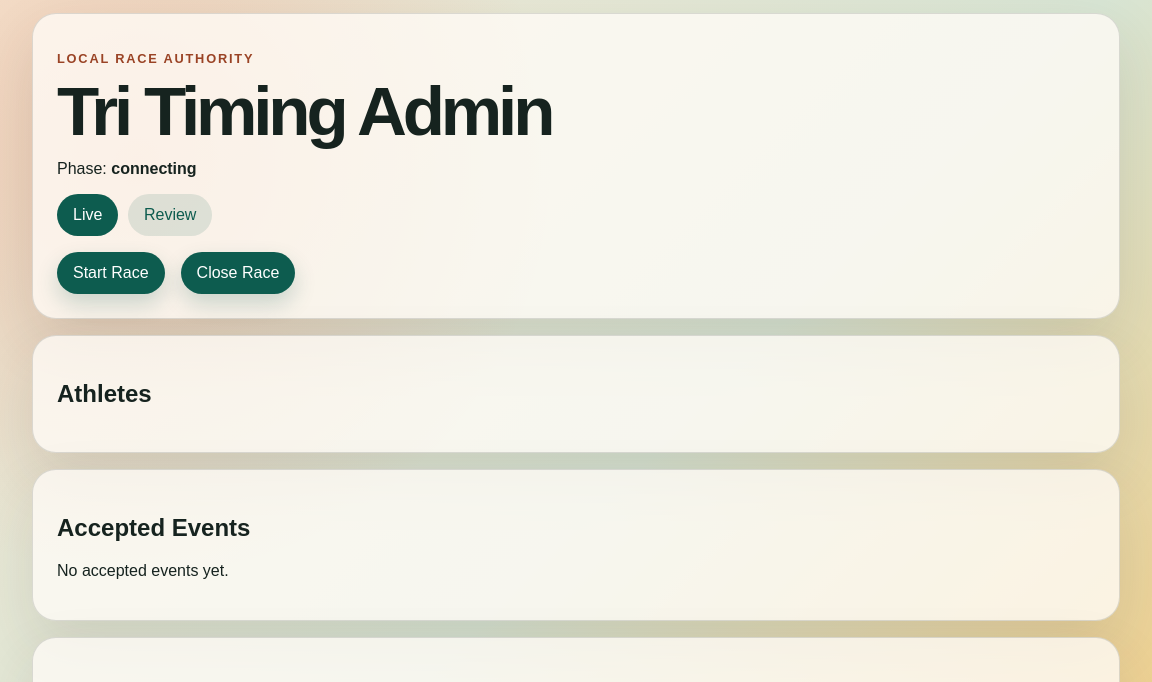
Test case: review mode renders athlete timeline and correction actions
Click the tab "Review" at (170, 215), box [128,194,212,236]
(page scrolled)
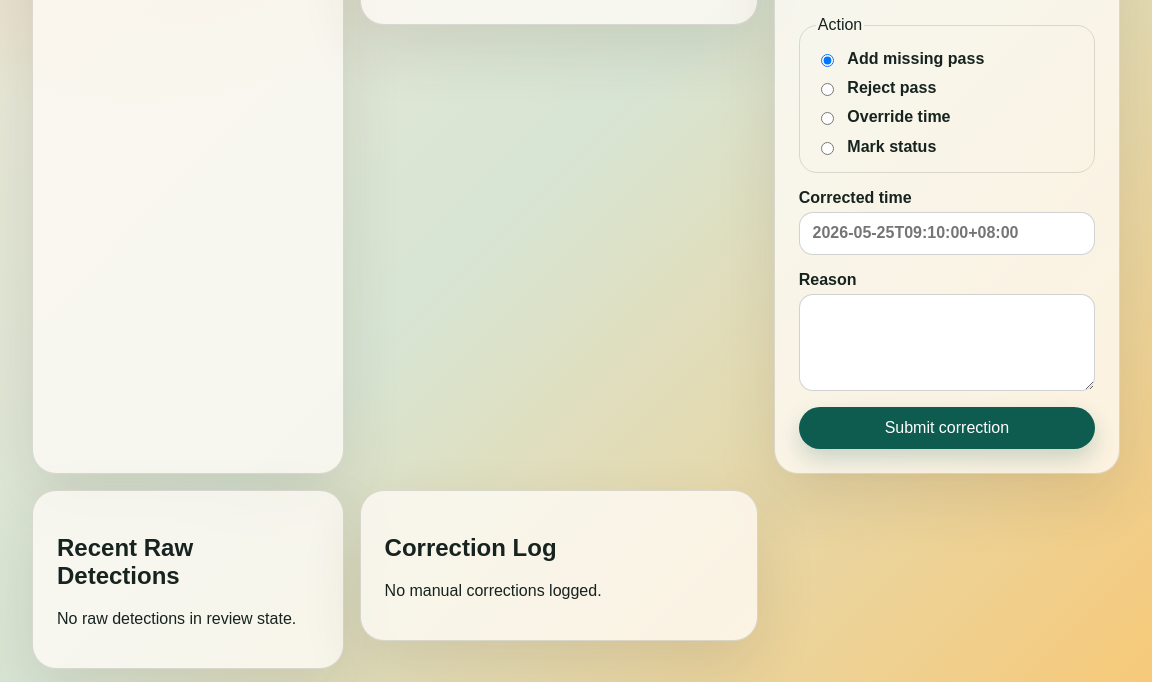
Check: the radio button labelled "Add missing pass" is shown, box [821,54,834,67]
